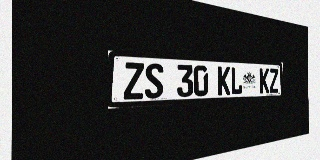0: (193, 65, 208, 97)
3: (177, 64, 193, 97)
K: (218, 66, 230, 95), (259, 68, 269, 93)
L: (231, 67, 242, 95)
S: (145, 63, 163, 99)
Z: (123, 62, 144, 100), (269, 68, 278, 93)
